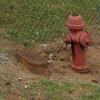a fire hydrant: (63, 14, 93, 70)
